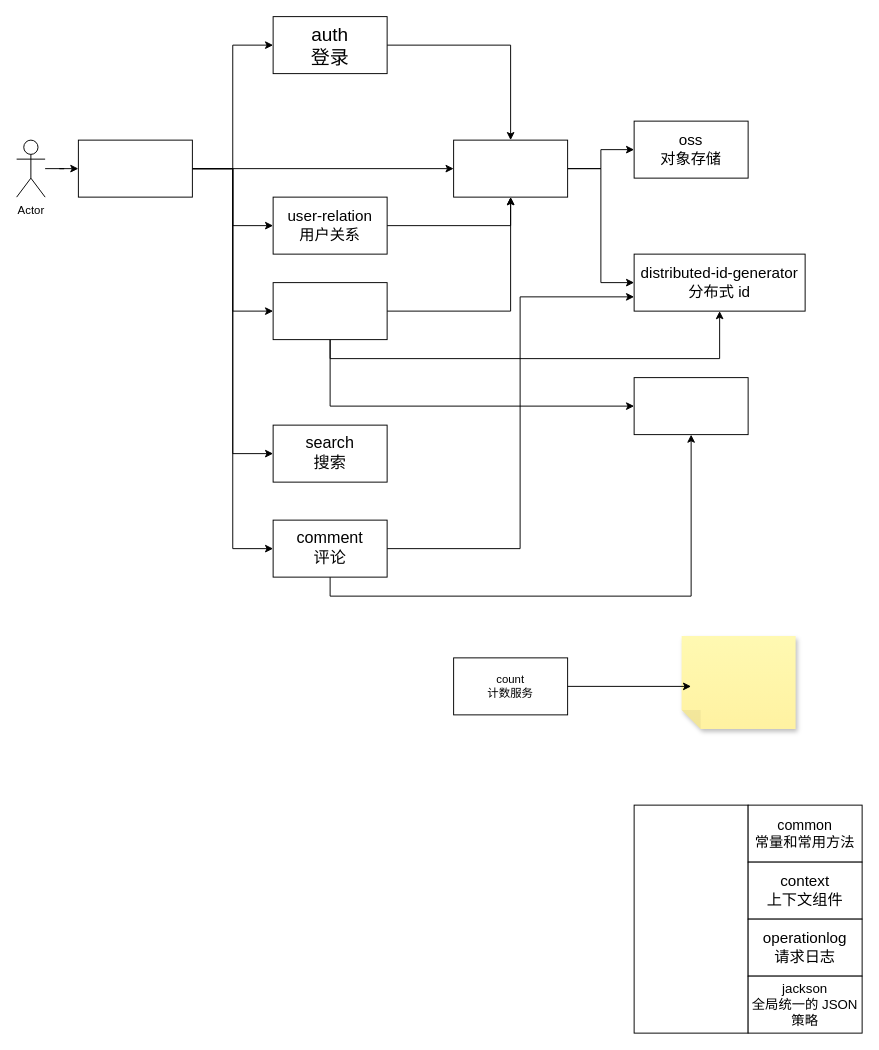
The diagram is 879 pixels wide and 1050 high, and some of its shapes have lost their labels. Each missing label, with the centre of its shape:
"framework 平台基础设施" belongs at point 690,918.
"gateway 网关" belongs at point 134,168.
"kv 键值对存储" belongs at point 690,406.
"note 笔记" belongs at point 329,311.
"user 用户" belongs at point 510,168.
"各个微服务向 count 发送 MQ 消息，进行计数" belongs at point 739,683.
